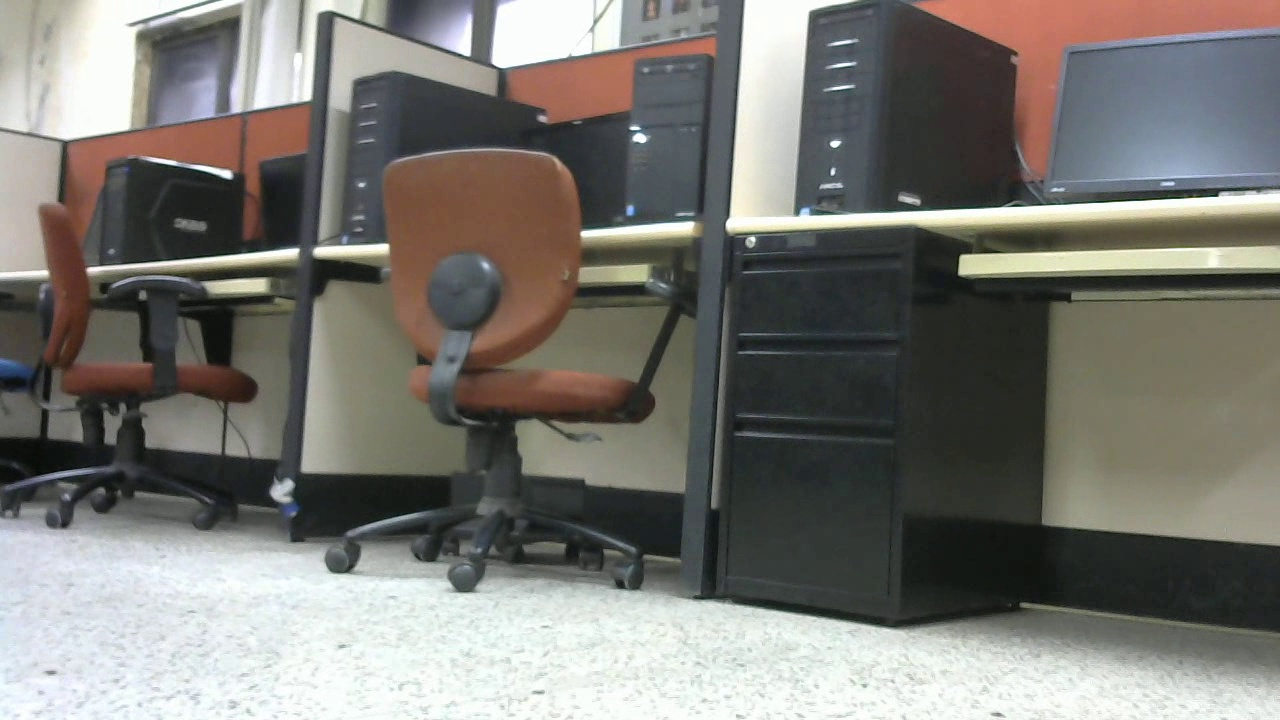chair: (318, 144, 664, 601), (1, 202, 262, 535)
